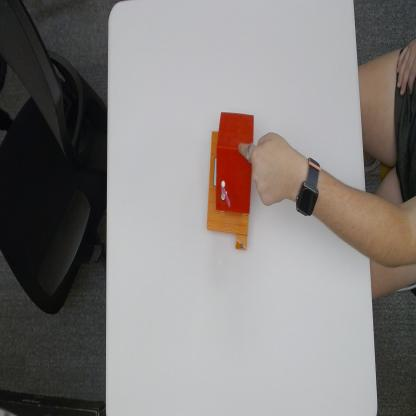Arm: (320, 165, 369, 259)
Hand: (238, 130, 291, 215)
House: (207, 108, 254, 253)
